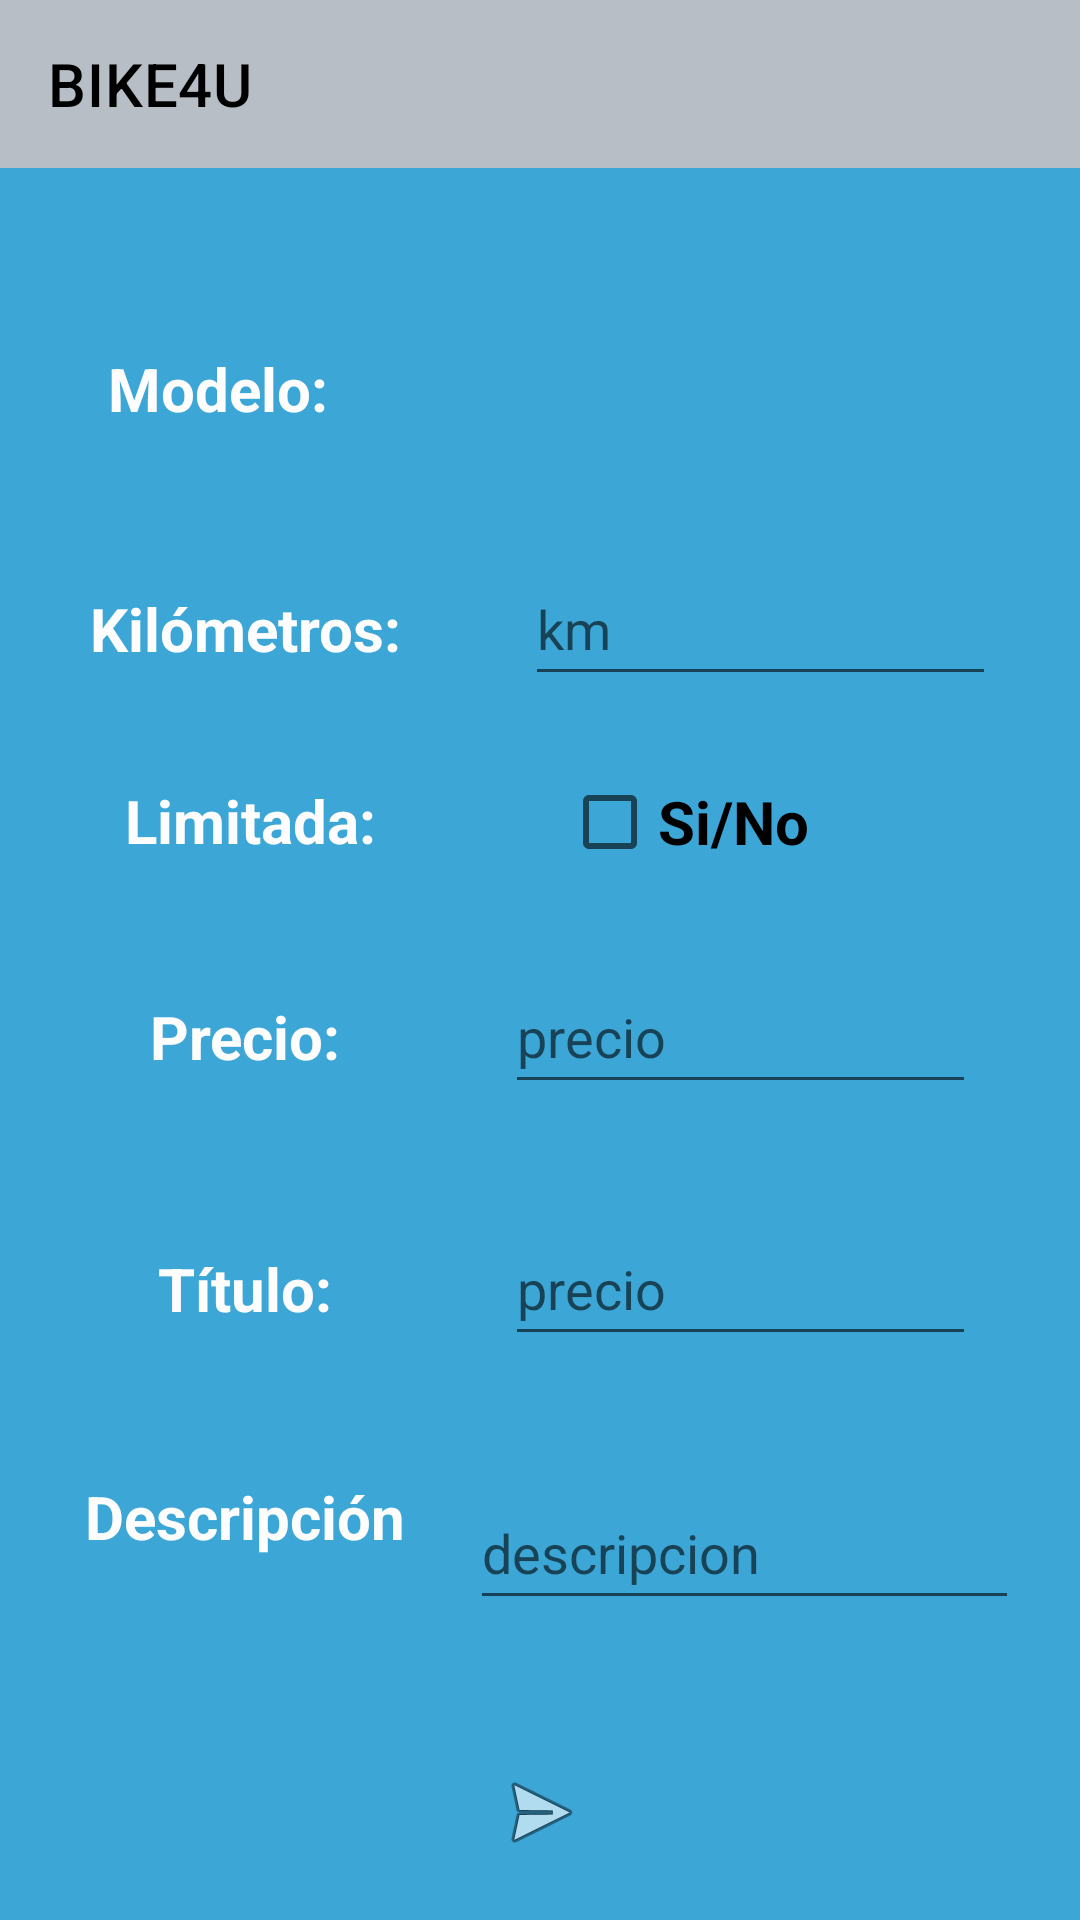

Where to tap for icons on this 1080x1920 app screen, as (x,y):
send: (542,1812)
